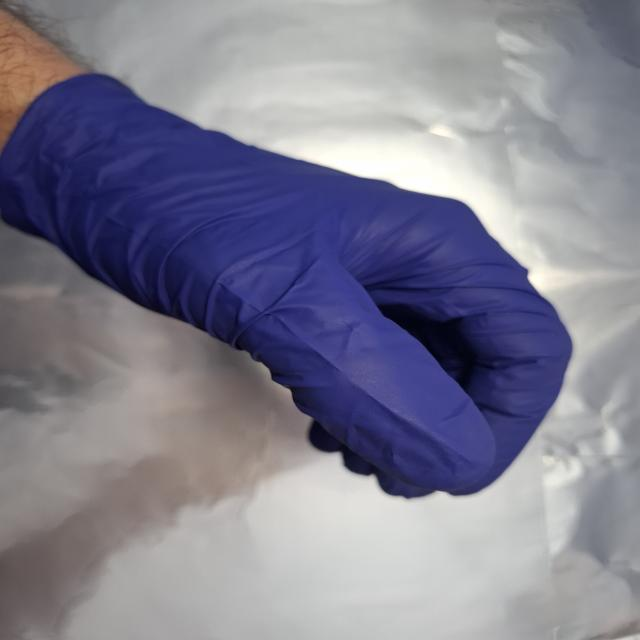glove_on: (3, 68, 580, 503)
